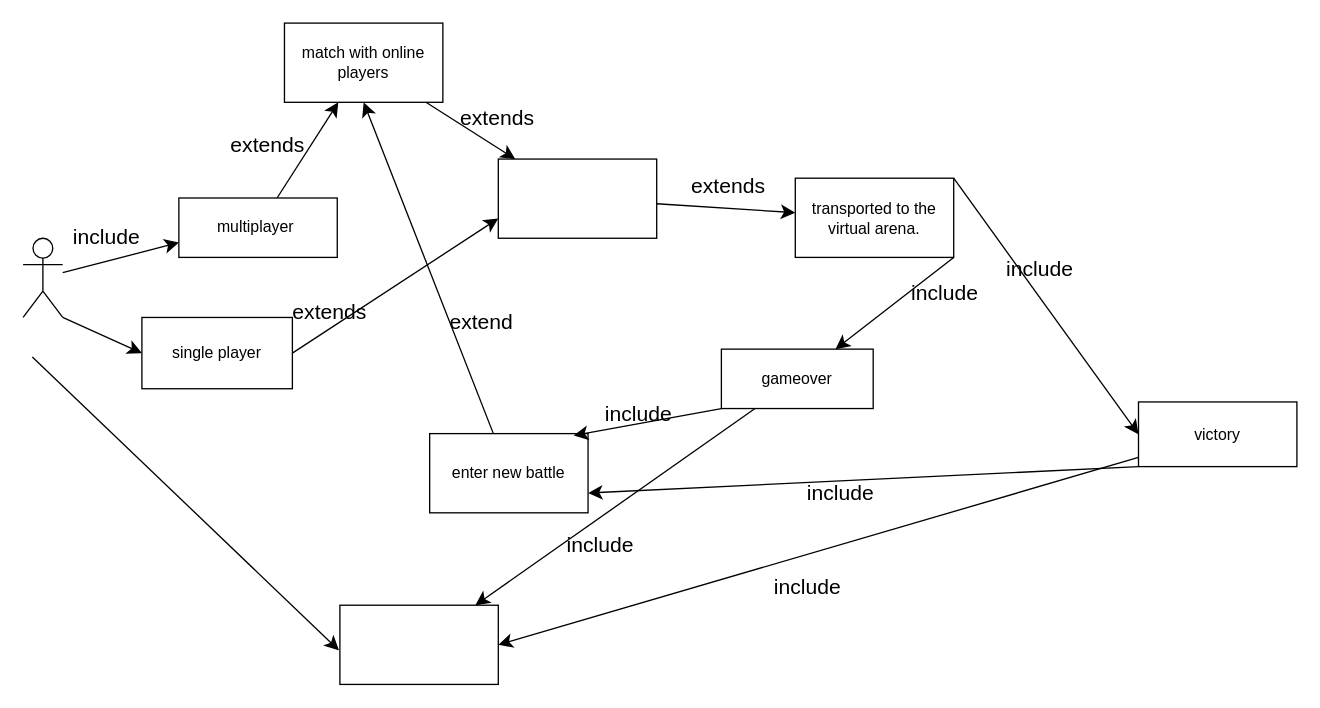
The diagram is 1320 pixels wide and 708 high, and some of its shapes have lost their labels. Here are the shapes that lost their labels. From the top down, the centre of each, then its label:
(577,198): game begins
(42,277): Actor
(418,644): quit
